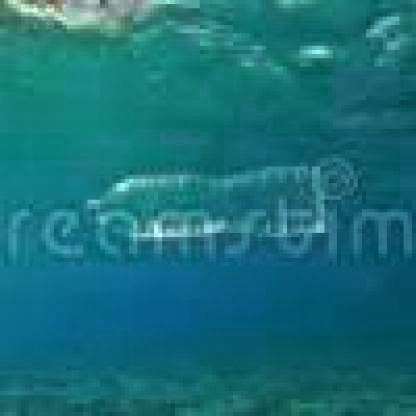pbottle: (83, 162, 333, 245)
